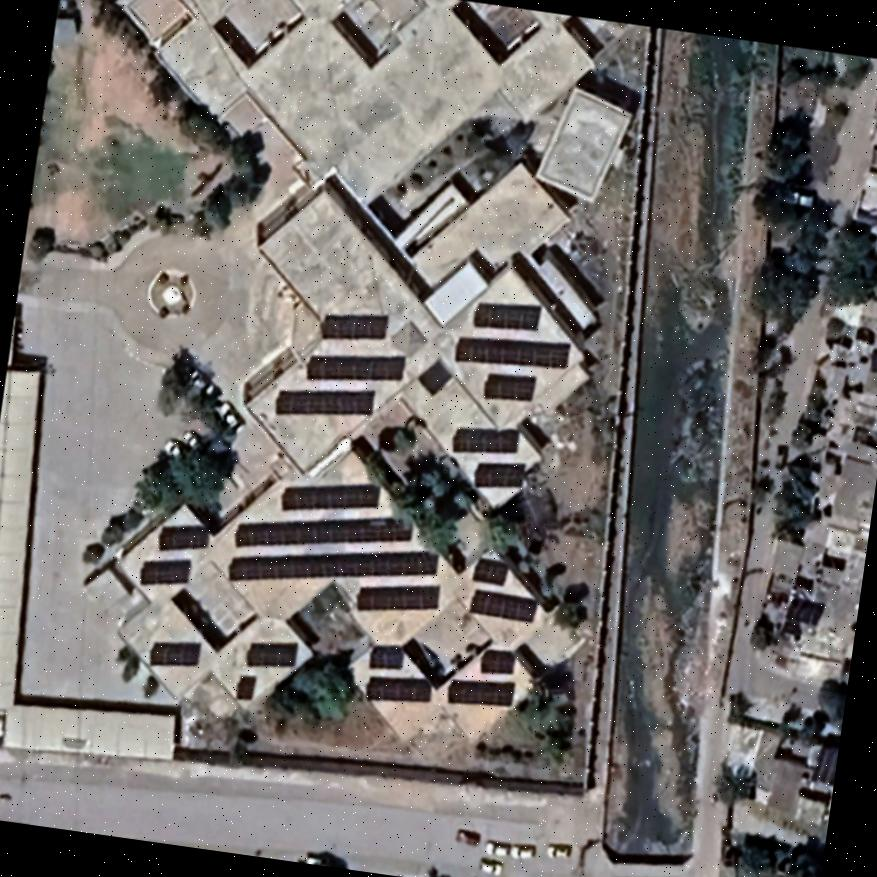Solarpanel: (221, 546, 442, 582), (232, 515, 414, 551), (449, 334, 574, 370), (276, 480, 382, 511), (273, 386, 377, 416), (464, 585, 541, 624), (303, 352, 404, 381), (468, 295, 544, 332), (351, 580, 444, 610), (445, 676, 515, 707), (316, 311, 389, 339), (478, 370, 536, 404), (360, 674, 432, 701), (449, 426, 520, 453), (142, 638, 201, 666), (136, 556, 192, 585), (243, 640, 299, 668), (471, 459, 526, 487), (153, 524, 209, 551), (469, 552, 511, 587), (364, 641, 405, 671), (477, 646, 517, 676), (233, 672, 258, 701)
